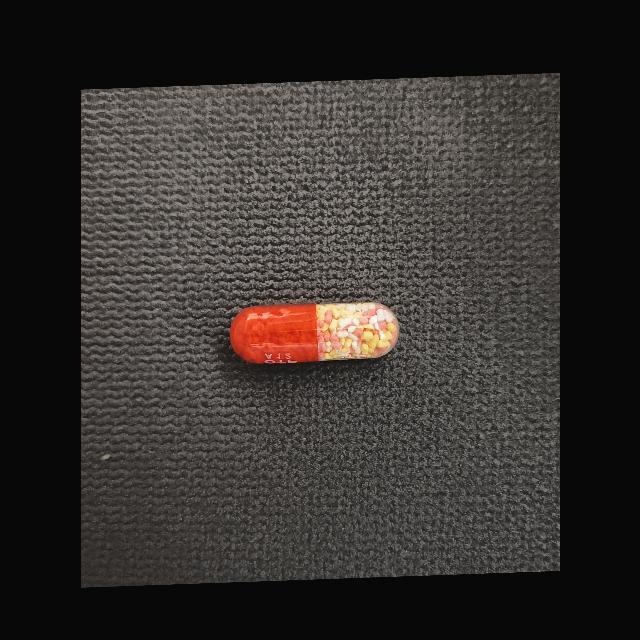Intact Capsule: (229, 302, 399, 364)
